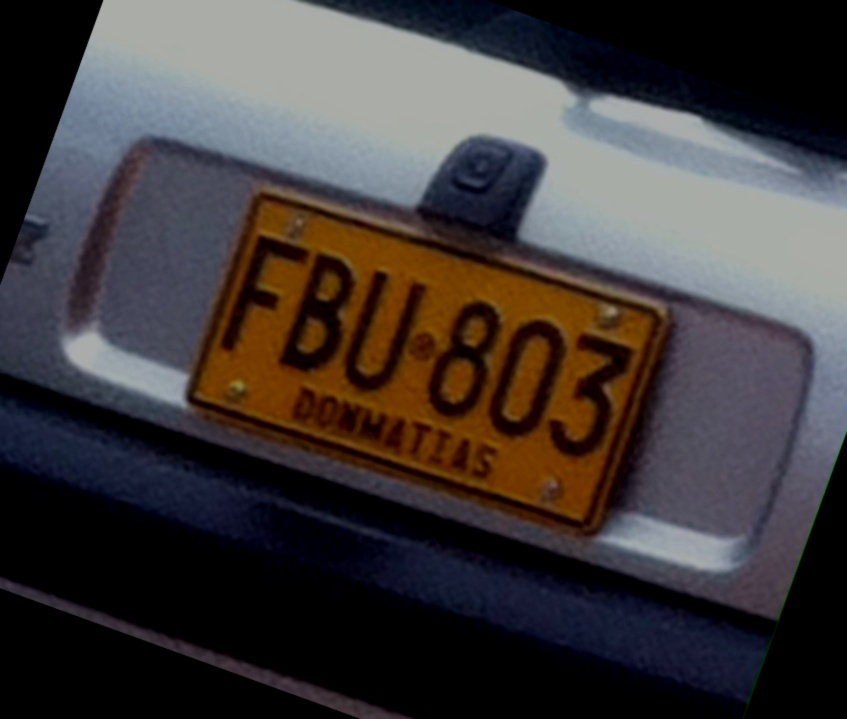placas: (174, 149, 709, 559)
